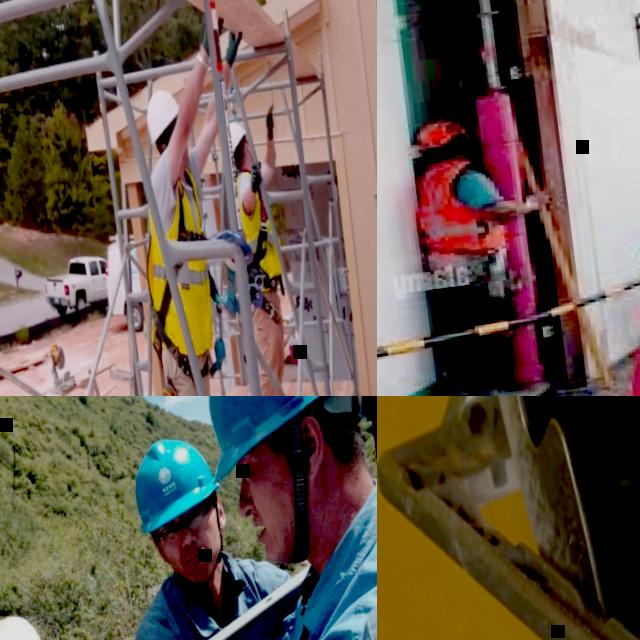Hardhat: (190, 396, 377, 481), (129, 430, 228, 534), (143, 87, 185, 144), (230, 118, 248, 149)
NO-Hardhat: (413, 117, 467, 147)
NO-Mask: (241, 476, 313, 572), (169, 535, 225, 587)
NO-Safety Vest: (254, 504, 377, 640), (133, 554, 316, 640), (407, 153, 510, 263)
Person: (7, 396, 377, 640), (96, 5, 318, 396), (394, 103, 588, 396), (101, 419, 355, 640), (221, 103, 325, 396)
Safety Cone: (597, 246, 640, 396)
Safety Vest: (130, 164, 222, 360), (234, 167, 288, 289)
vehicle: (100, 229, 167, 335), (42, 253, 114, 316)
